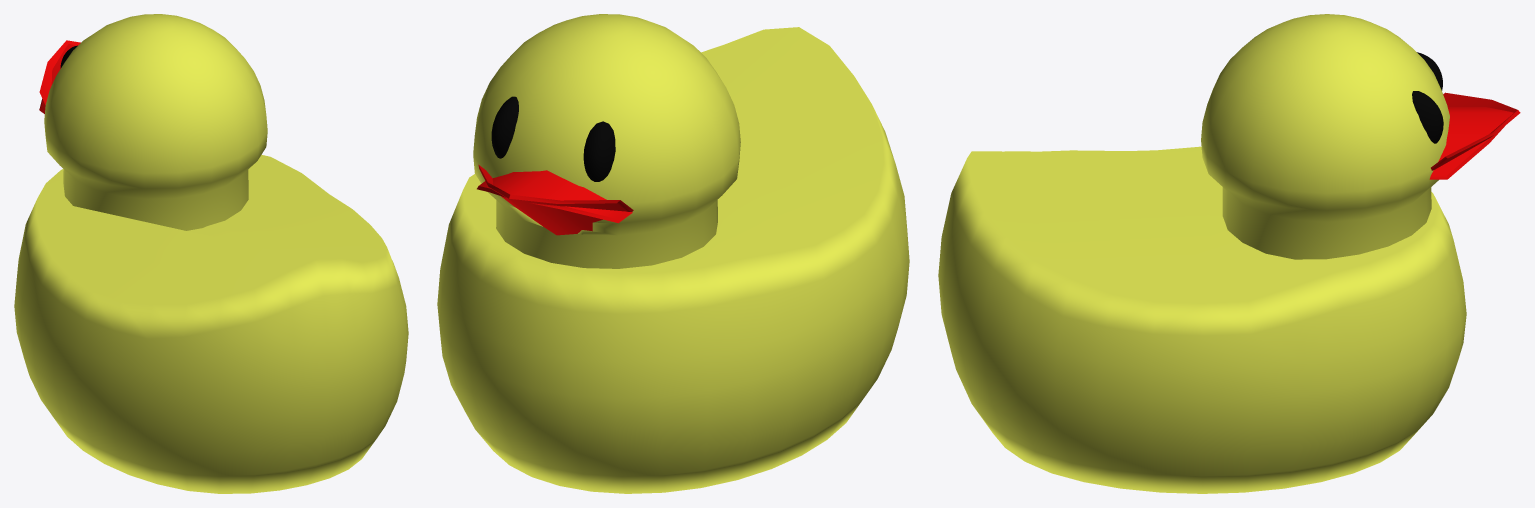
Rendered from rubber_duck_normal.fbx.
The picture shows the model from 3 angles, left to right: view 1: azimuth 30°, elevation 25°; view 2: azimuth 150°, elevation 25°; view 3: azimuth 270°, elevation 25°; orthographic projection. The views are drawn at different scales.
Visible parts, largest first — view 1: pSphere5; view 2: pSphere5; view 3: pSphere5.
Boxes of the visible parts, bbox=[...] form: pSphere5: bbox=[14, 14, 408, 493]; pSphere5: bbox=[437, 14, 909, 493]; pSphere5: bbox=[938, 14, 1520, 493].
Size of the model in its own units: 1.91 by 2.04 by 2.7.
